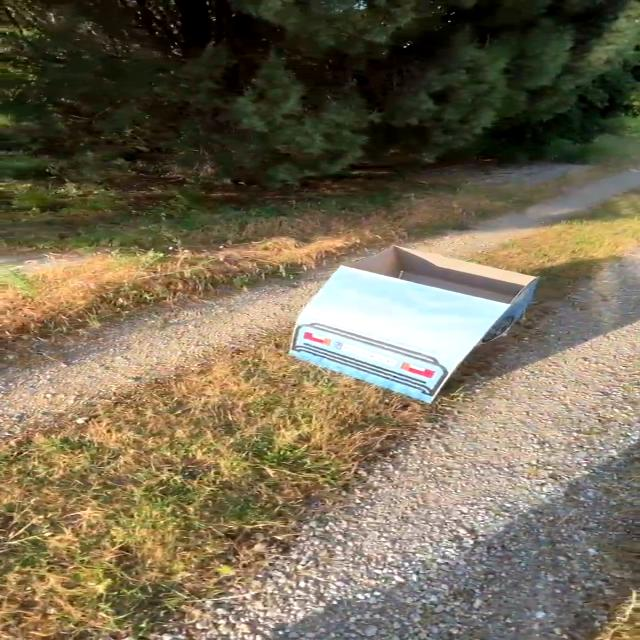blue_car: (260, 233, 565, 415)
